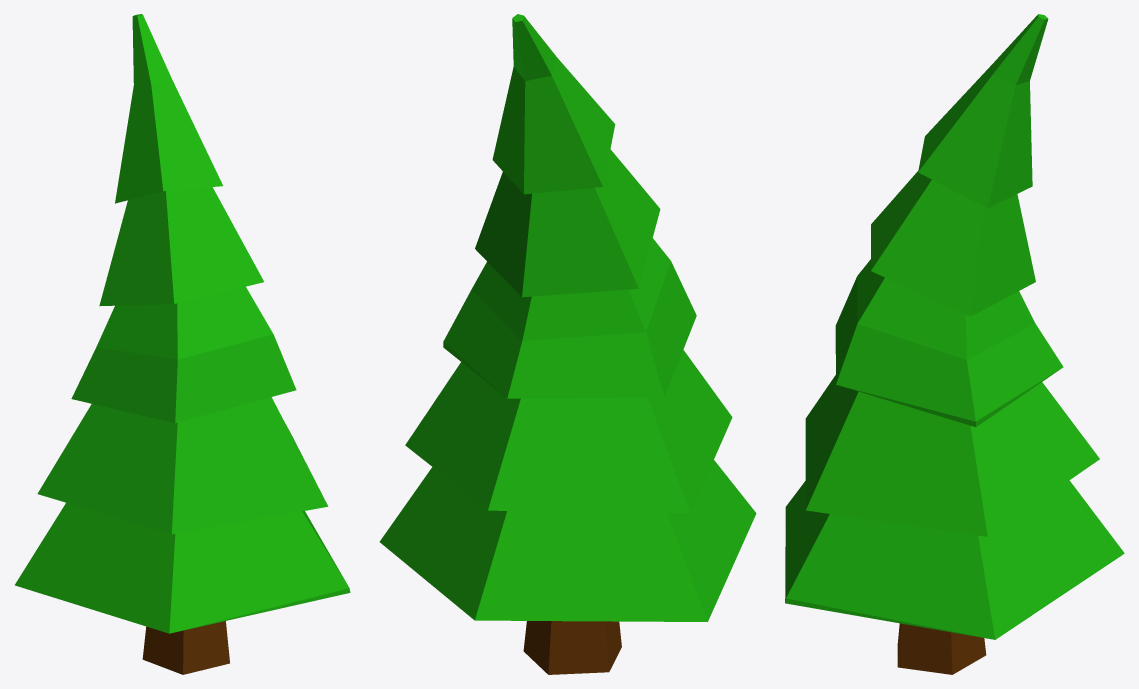
Rendered from tree1.fbx.
The picture shows the model from 3 angles, left to right: view 1: azimuth 30°, elevation 25°; view 2: azimuth 150°, elevation 25°; view 3: azimuth 270°, elevation 25°; orthographic projection. The views are drawn at different scales.
Parts seen in each view (by area): view 1: tree1; view 2: tree1; view 3: tree1.
Part boxes in pixels (box(x1,y1,x2,y2)): tree1: box(15, 14, 350, 674); tree1: box(379, 14, 756, 674); tree1: box(785, 14, 1124, 674).
Bounding box in the file's own units: 532 × 1054 × 507.
